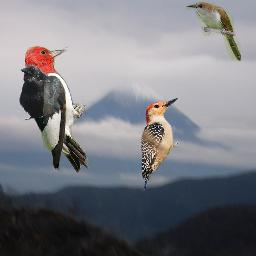Crow: (18, 64, 54, 120)
Cuckoo: (186, 2, 241, 61)
Woodpecker: (25, 45, 90, 173), (141, 97, 178, 191)
